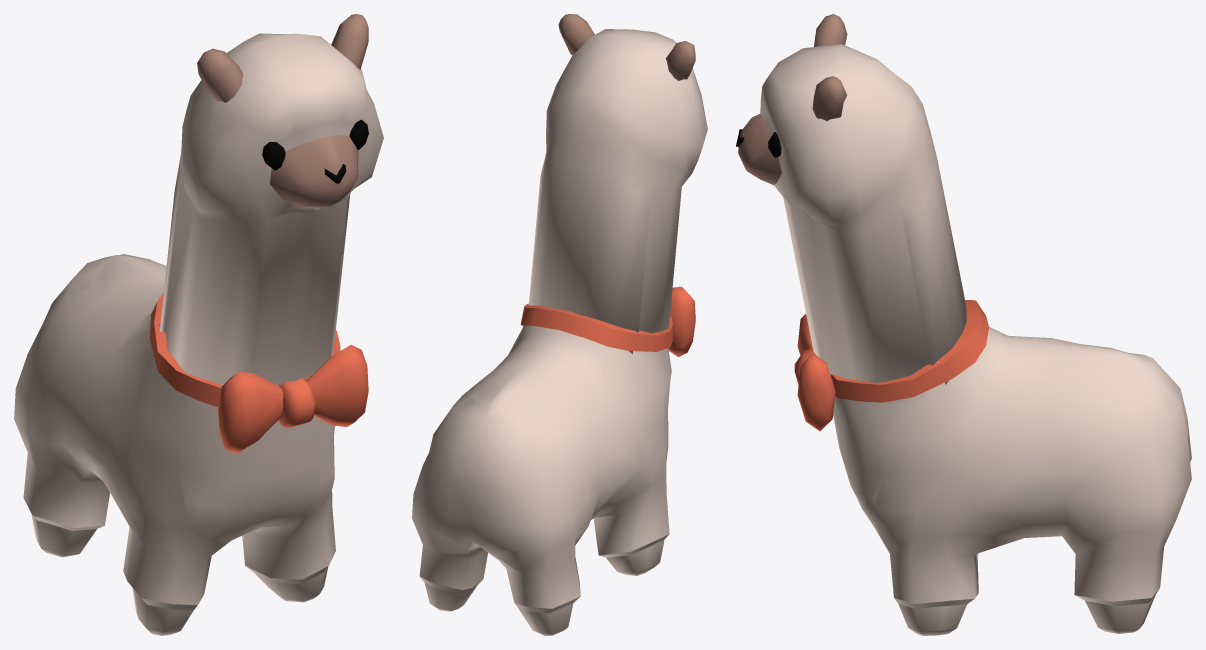
File: AlpacaLongNeck.fbx
3 views of the same model, side by side, from view 1: azimuth 30°, elevation 25°; view 2: azimuth 150°, elevation 25°; view 3: azimuth 270°, elevation 25° (orthographic). The views are drawn at different scales.
Parts seen in each view (by area): view 1: Alpaca.003; view 2: Alpaca.003; view 3: Alpaca.003.
Part boxes in pixels (<box>): Alpaca.003: <box>14,14,383,635</box>; Alpaca.003: <box>412,14,707,635</box>; Alpaca.003: <box>736,14,1191,635</box>.
Size of the model in its own units: 39.27 by 52.91 by 17.61.
